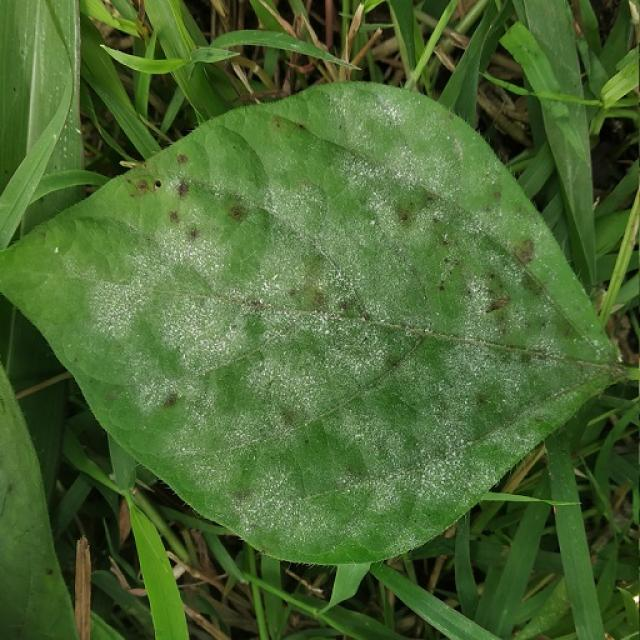Blackgram: (2, 85, 628, 564)
Powdery_Mildew: (115, 159, 491, 428), (245, 331, 480, 505), (250, 187, 417, 336), (228, 298, 384, 420), (373, 349, 500, 469), (212, 228, 332, 329), (143, 213, 260, 316), (160, 274, 270, 364), (86, 259, 181, 360), (154, 293, 257, 377), (230, 454, 342, 528), (426, 319, 518, 396), (258, 173, 344, 247), (339, 135, 429, 199), (393, 433, 474, 504), (313, 226, 386, 301), (340, 90, 432, 144), (370, 218, 377, 227)
